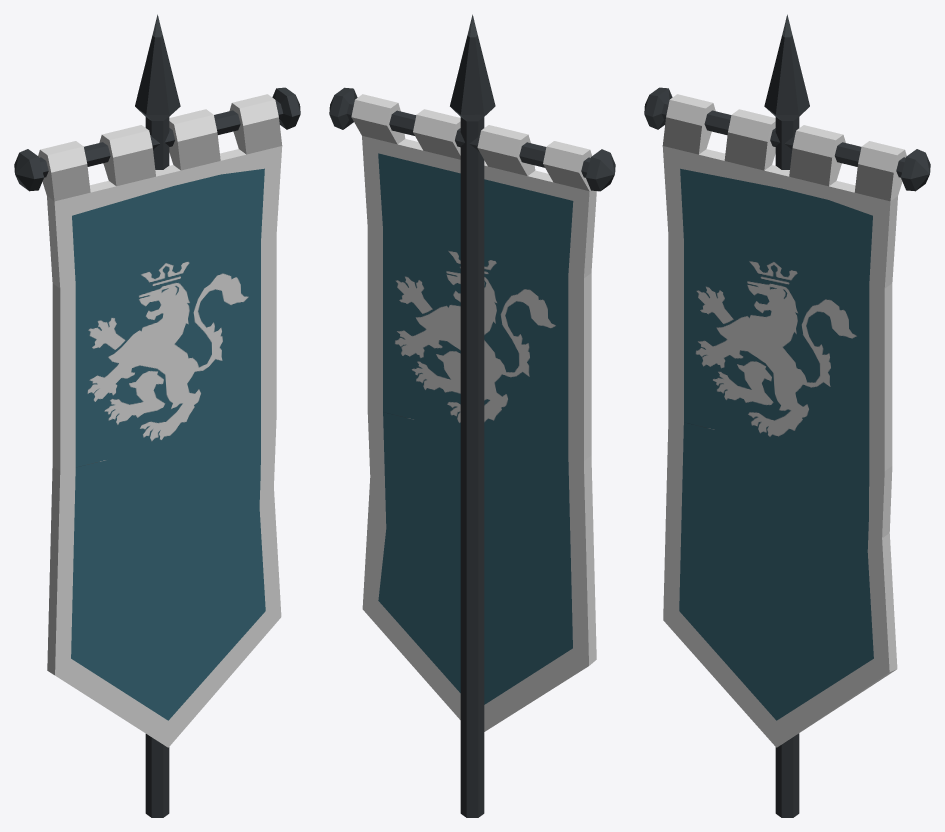
File: prop_battle_banner.gltf
The picture shows the model from 3 angles, left to right: view 1: azimuth 30°, elevation 25°; view 2: azimuth 150°, elevation 25°; view 3: azimuth 330°, elevation 25°; orthographic projection.
Parts seen in each view (by area): view 1: prop_battle_banner; view 2: prop_battle_banner; view 3: prop_battle_banner.
Part boxes in pixels (x1,y1,x2,y2): prop_battle_banner: (14, 14, 300, 817); prop_battle_banner: (329, 14, 615, 817); prop_battle_banner: (644, 14, 930, 817).
Bounding box in the file's own units: 0.751 × 2.01 × 0.1068.
1 material, 1 textured.
